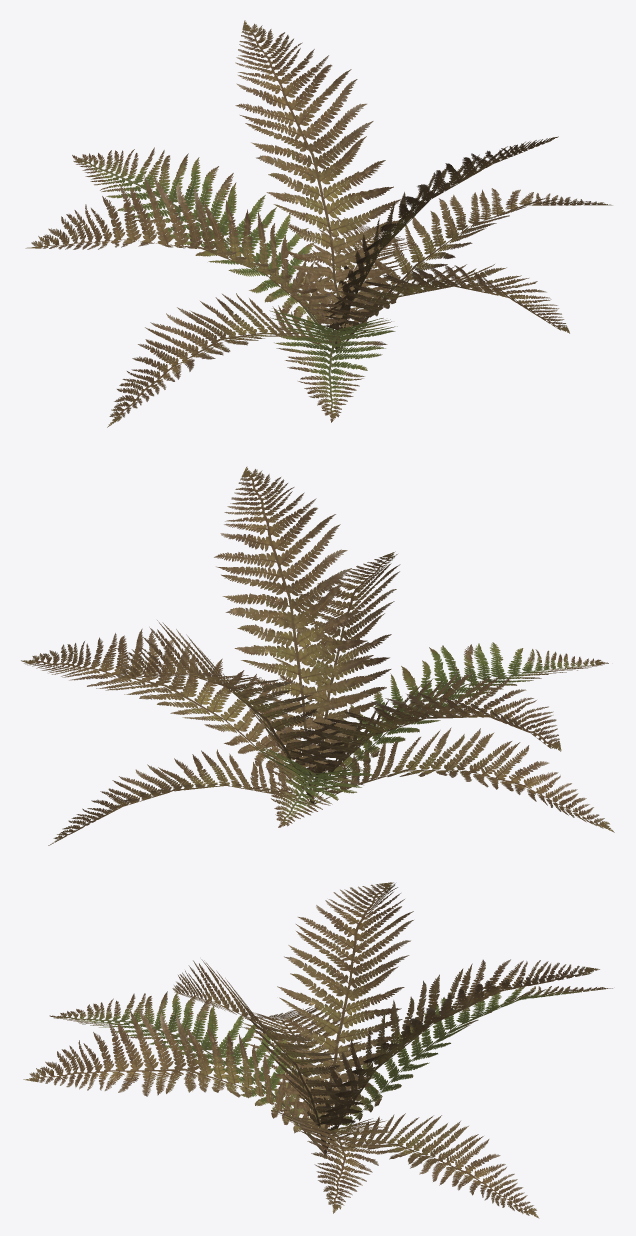
Rendered from Fern09lod0.dae.
3 renders of one model, top to bottom at view 1: azimuth 30°, elevation 25°; view 2: azimuth 150°, elevation 25°; view 3: azimuth 270°, elevation 25°, orthographic. The views are drawn at different scales.
Visible parts, largest first — view 1: SM_Fern_09_LOD; view 2: SM_Fern_09_LOD; view 3: SM_Fern_09_LOD.
Part boxes in pixels (box(x1,y1,x2,y2)): SM_Fern_09_LOD: box(25, 20, 612, 427); SM_Fern_09_LOD: box(21, 466, 614, 845); SM_Fern_09_LOD: box(23, 882, 612, 1218).
Bounding box in the file's own units: 2.09 × 0.8469 × 2.
